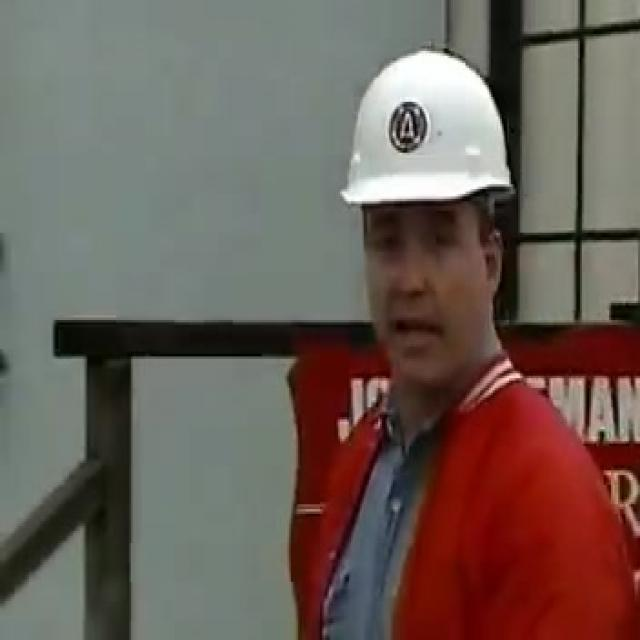Safety-Helmet: (333, 39, 531, 230)
